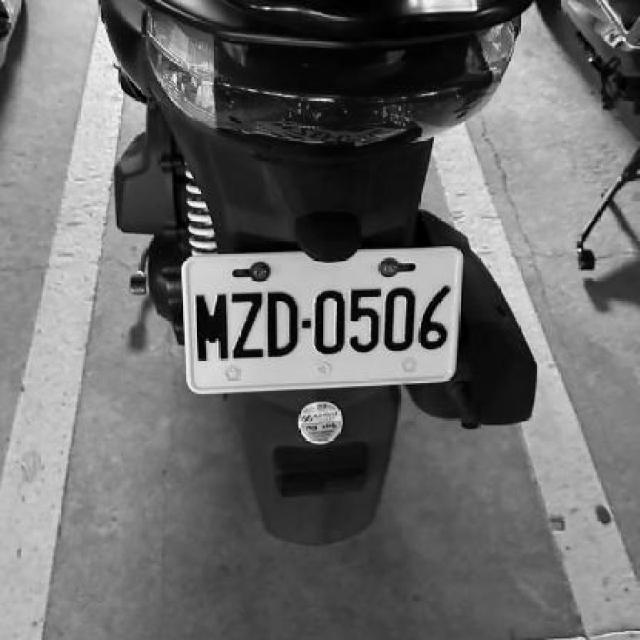-: (298, 316, 311, 330)
0: (382, 282, 418, 356), (312, 286, 348, 359)
5: (345, 286, 383, 357)
6: (417, 280, 451, 351)
D: (266, 288, 300, 360)
M: (191, 290, 229, 364)
Z: (229, 290, 266, 362)
